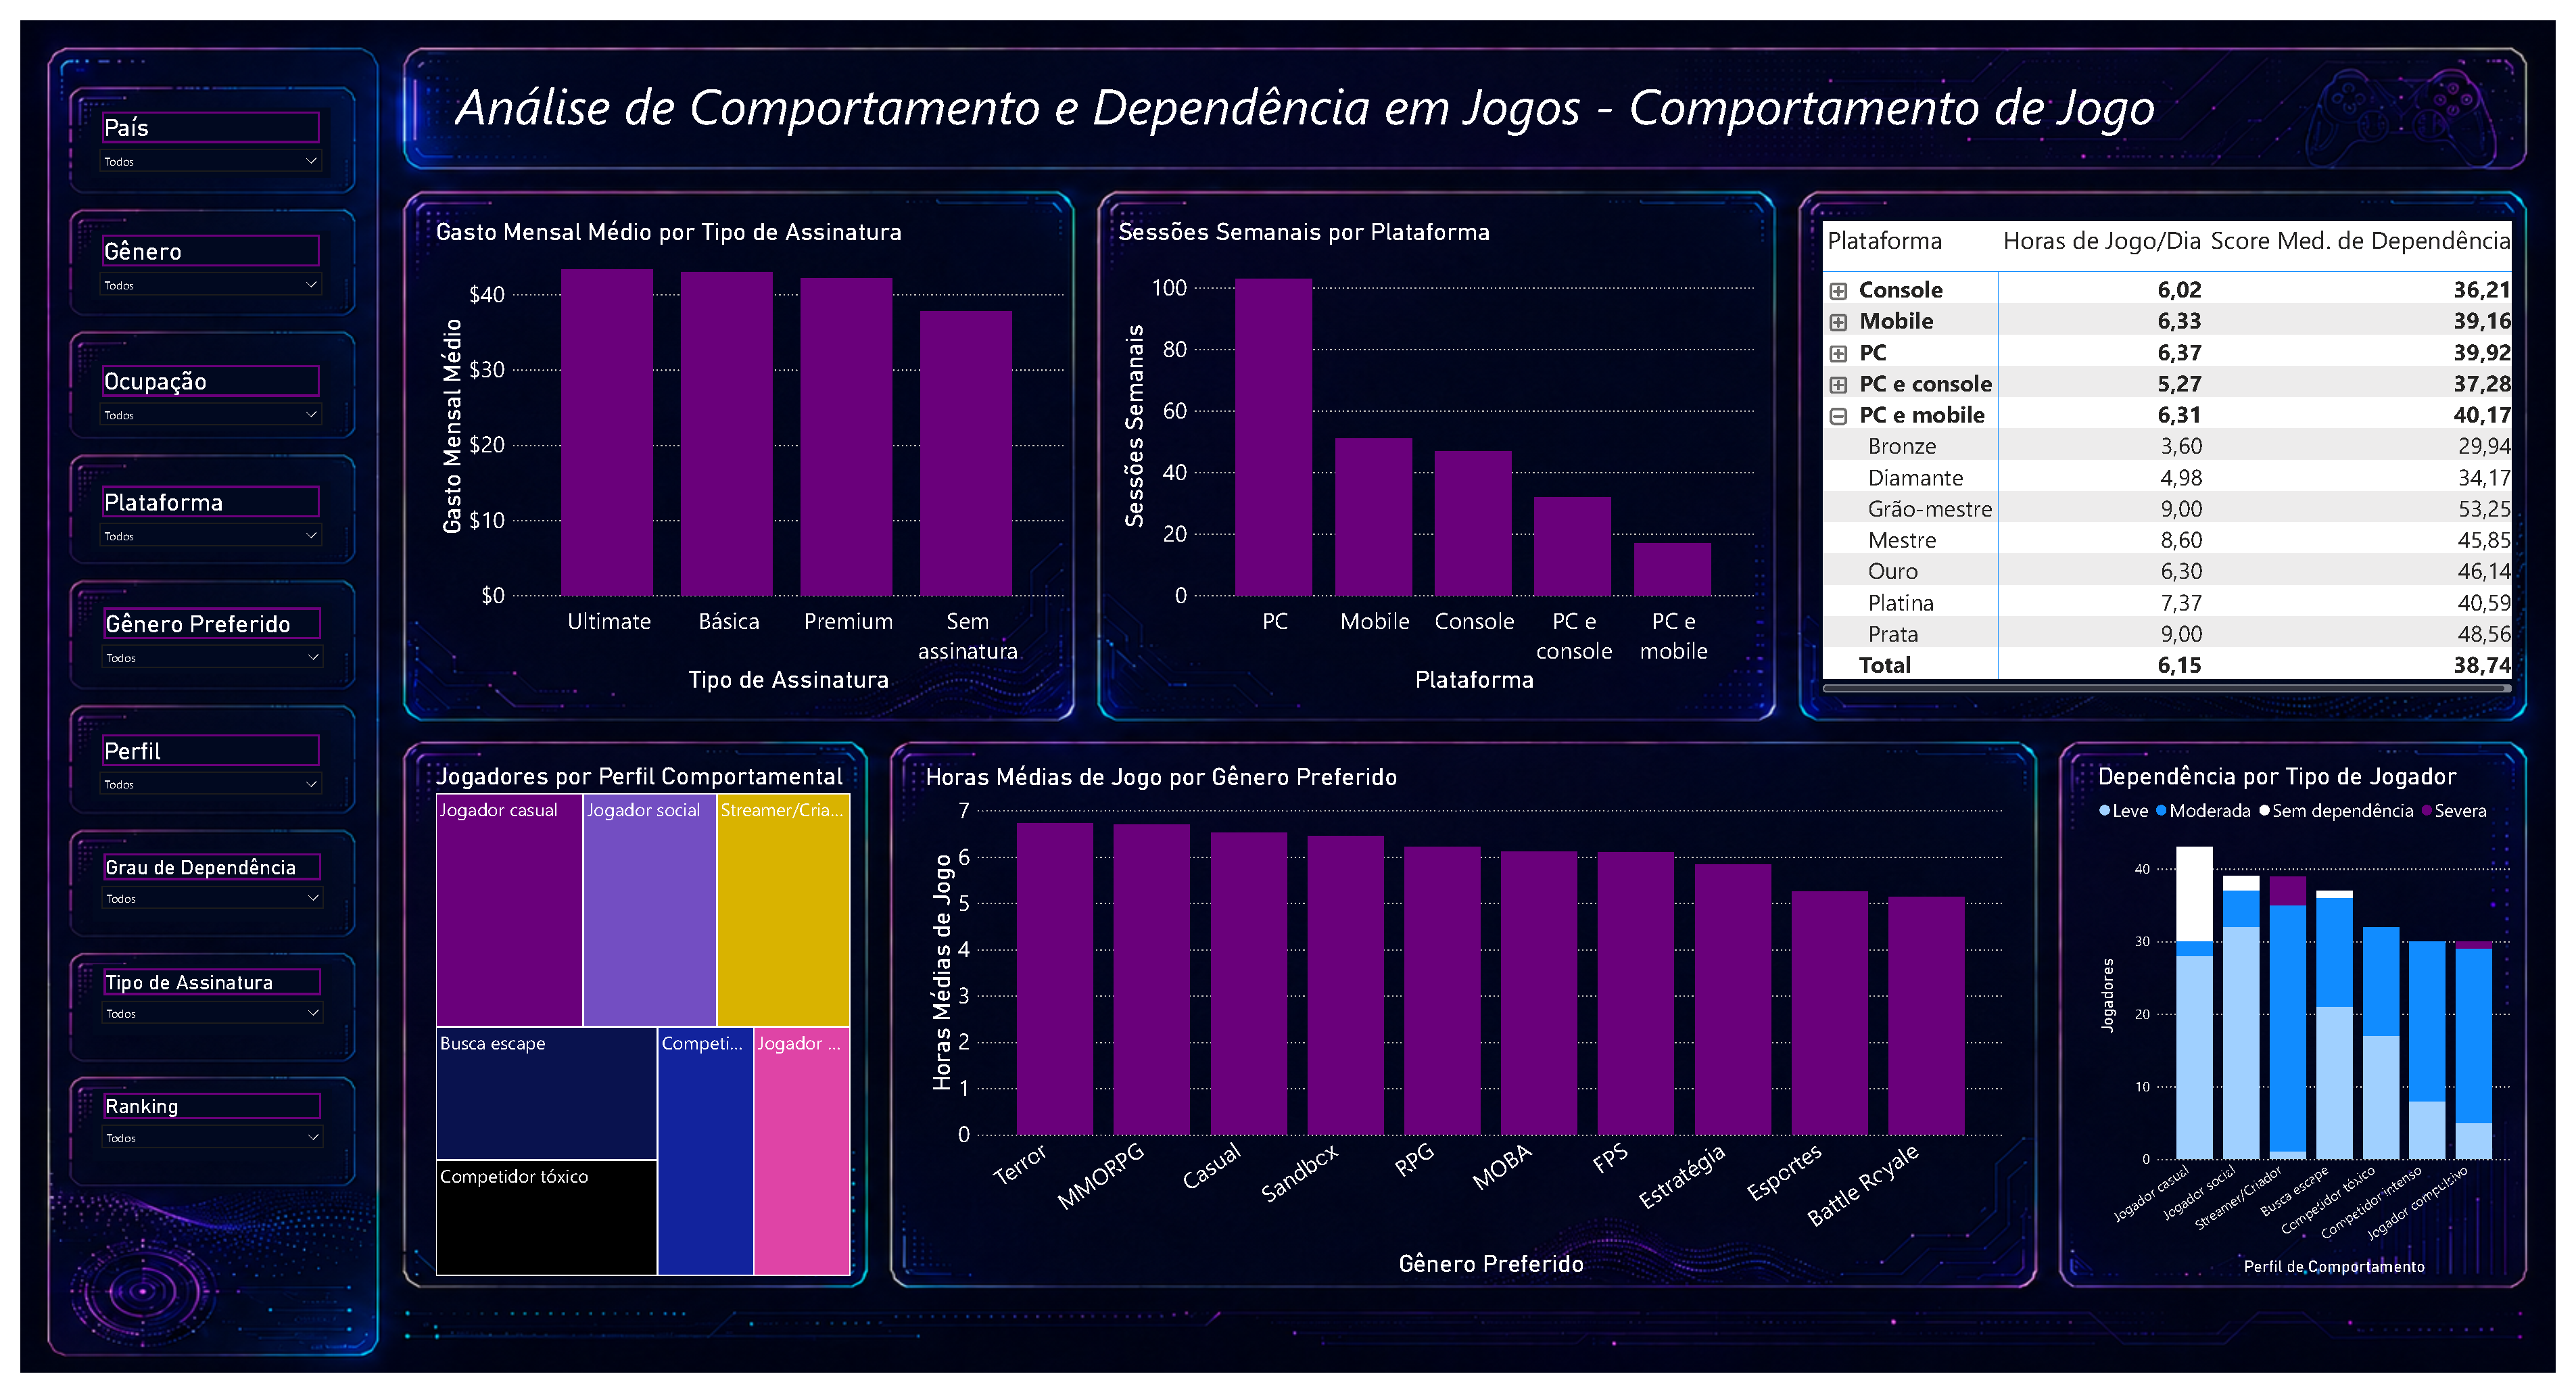

What the dashboard file says about the page in this screenshot:
{"tool":"powerbi","page":{"name":"Comportamento","canvas":[3000,1600],"ordinal":1},"visuals":[{"type":"textbox","box":[509.9,54.5,2148.6,103.6],"z":0},{"type":"columnChart","fields":{"Y":["Medidas.Horas Médias de Jogo"],"Category":["Dados.genero_preferido"]},"box":[1066.1,878,1287,613.5],"z":1000},{"type":"columnChart","fields":{"Category":["Dados.status_assinatura"],"Y":["Medidas.Gasto Mensal Médio"]},"box":[486.7,233.3,753.3,566.7],"z":2000},{"type":"columnChart","fields":{"Category":["Dados.plataforma"],"Y":["CountNonNull(Dados.sessoes_semanais)"]},"box":[1294.1,233,762,566.8],"z":3000},{"type":"pivotTable","fields":{"Rows":["Dados.plataforma","Dados.nivel_ranqueado"],"Values":["Avg(Dados.horas_jogo_diarias)","Avg(Dados.score_dependencia)"]},"box":[2127.5,232.5,825,567.5],"z":4000},{"type":"treemap","title":"Jogadores por Perfil Comportamental","fields":{"Details":["Dados.cluster_comportamental"],"Values":["Medidas.Total Jogadores"]},"box":[486.7,876.7,500,613.3],"z":5000},{"type":"columnChart","title":"Dependência por Tipo de Jogador","fields":{"Y":["Medidas.Total Jogadores"],"Series":["Dados.severidade_dependencia"],"Category":["Dados.cluster_comportamental"]},"box":[2453.3,876.7,500,613.3],"z":6000},{"type":"slicer","title":"País","fields":{"Values":["Dados.pais"]},"box":[84.3,102.9,282.9,82.9],"z":6001},{"type":"slicer","title":"País","fields":{"Values":["Dados.genero"]},"box":[84.3,248.6,282.9,82.9],"z":6002},{"type":"slicer","title":"País","fields":{"Values":["Dados.ocupacao"]},"box":[84.3,402.9,282.9,82.9],"z":6003},{"type":"slicer","title":"País","fields":{"Values":["Dados.genero_preferido"]},"box":[85.7,690,282.9,82.9],"z":6004},{"type":"slicer","title":"País","fields":{"Values":["Dados.plataforma"]},"box":[84.3,545.7,282.9,82.9],"z":6005},{"type":"slicer","title":"País","fields":{"Values":["Dados.cluster_comportamental"]},"box":[84.3,840,282.9,84.3],"z":6006},{"type":"slicer","title":"País","fields":{"Values":["Dados.severidade_dependencia"]},"box":[85.7,981.4,282.9,84.3],"z":6007},{"type":"slicer","title":"País","fields":{"Values":["Dados.status_assinatura"]},"box":[85.7,1117.1,282.9,84.3],"z":6008},{"type":"slicer","title":"País","fields":{"Values":["Dados.nivel_ranqueado"]},"box":[85.7,1264.3,282.9,84.3],"z":6009}]}

Visuals, with their boxes in screenshot pixels (x1, y1, x2, y2), scaled from the page's 3000x1600 canvas onto the 2576x1393 screenshot:
textbox: 438/47/2283/138
columnChart - Medidas.Horas Médias de Jogo x Dados.genero_preferido: 915/764/2020/1298
columnChart - Dados.status_assinatura x Medidas.Gasto Mensal Médio: 418/203/1065/696
columnChart - Dados.plataforma x CountNonNull(Dados.sessoes_semanais): 1112/203/1765/696
pivotTable - Dados.plataforma x Dados.nivel_ranqueado: 1827/202/2535/696
"Jogadores por Perfil Comportamental" treemap: 418/763/847/1297
"Dependência por Tipo de Jogador" columnChart: 2107/763/2536/1297
"País" slicer: 72/89/315/162
"País" slicer: 72/216/315/289
"País" slicer: 72/351/315/423
"País" slicer: 74/600/316/673
"País" slicer: 72/475/315/547
"País" slicer: 72/732/315/805
"País" slicer: 74/855/316/928
"País" slicer: 74/972/316/1046
"País" slicer: 74/1101/316/1174
